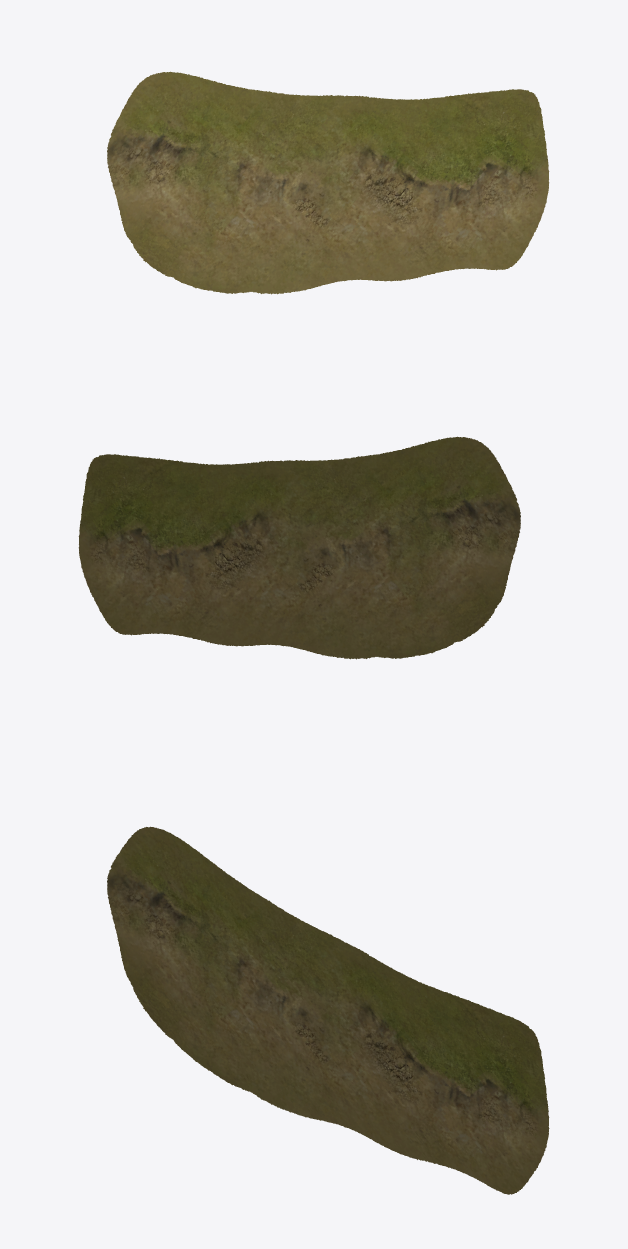
File: TR_Plant_All_12_3.FBX
The picture shows the model from 3 angles, top to bottom: view 1: azimuth 30°, elevation 25°; view 2: azimuth 150°, elevation 25°; view 3: azimuth 330°, elevation 25°; orthographic projection.
Visible parts, largest first — view 1: TR_Plant_All_12_3; view 2: TR_Plant_All_12_3; view 3: TR_Plant_All_12_3.
Boxes of the visible parts, x1,y1,x2,y2 form: TR_Plant_All_12_3: (107, 71, 549, 294); TR_Plant_All_12_3: (78, 436, 520, 659); TR_Plant_All_12_3: (107, 826, 549, 1194).
Size of the model in its own units: 1.55 by 0.9155 by 4.43e-07.
1 material, 1 textured.
